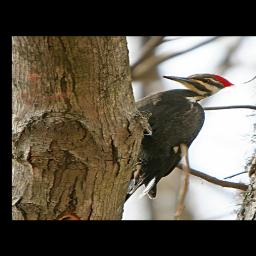Woodpecker: (122, 73, 235, 203)
